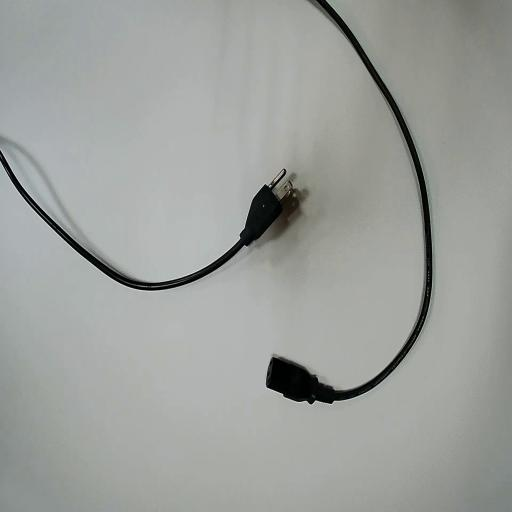wire: (267, 0, 431, 402)
